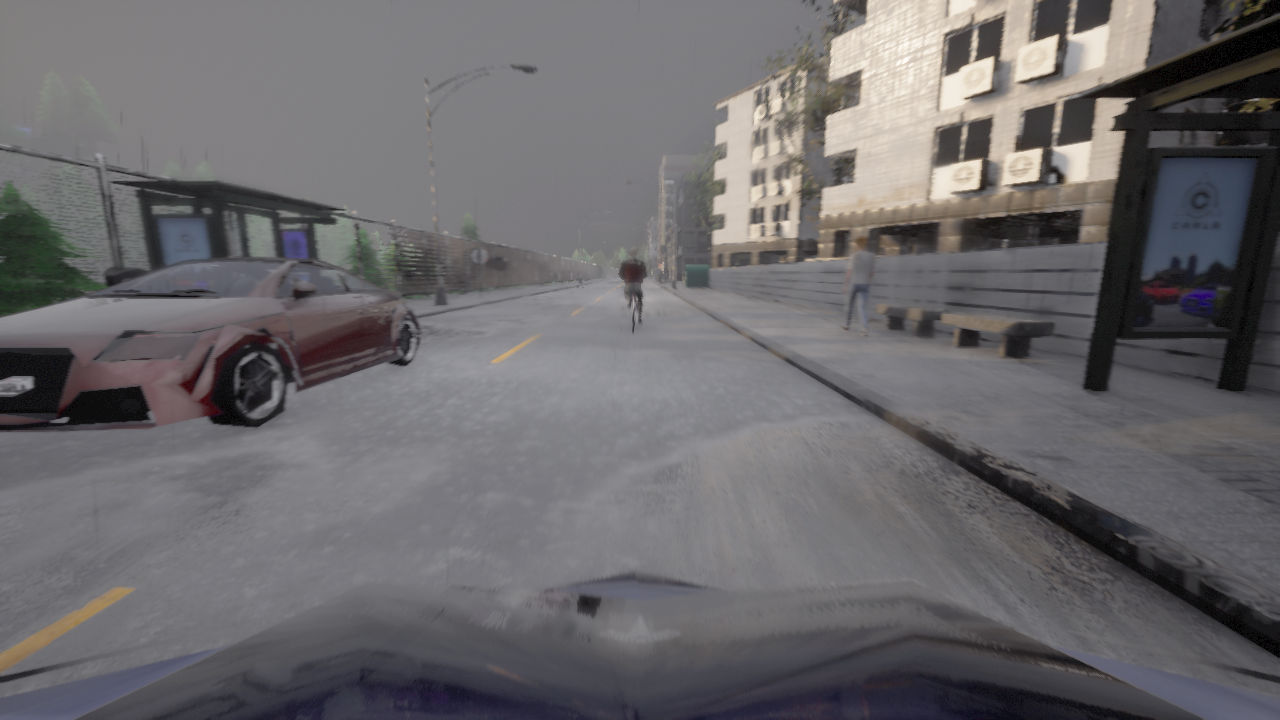cyclist: (0, 569, 1279, 719), (0, 258, 420, 432), (631, 293, 642, 331)
pedestrian: (840, 236, 875, 336)
